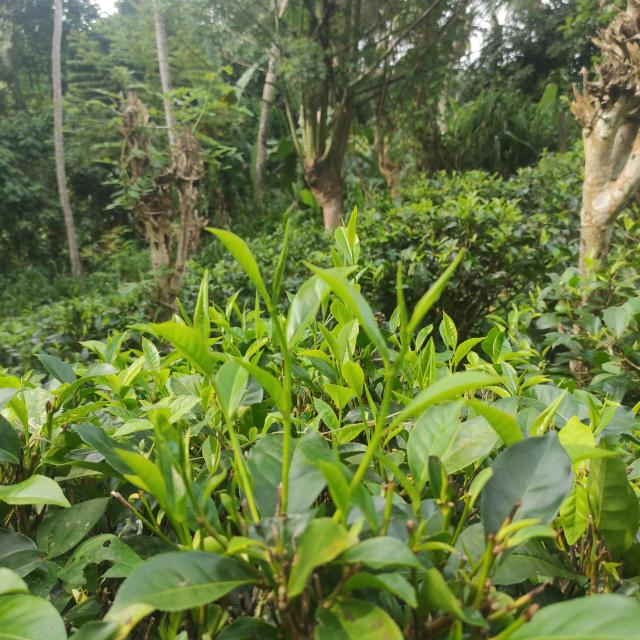unopened_leaf: (266, 213, 300, 310), (389, 254, 416, 347), (170, 290, 197, 328)
